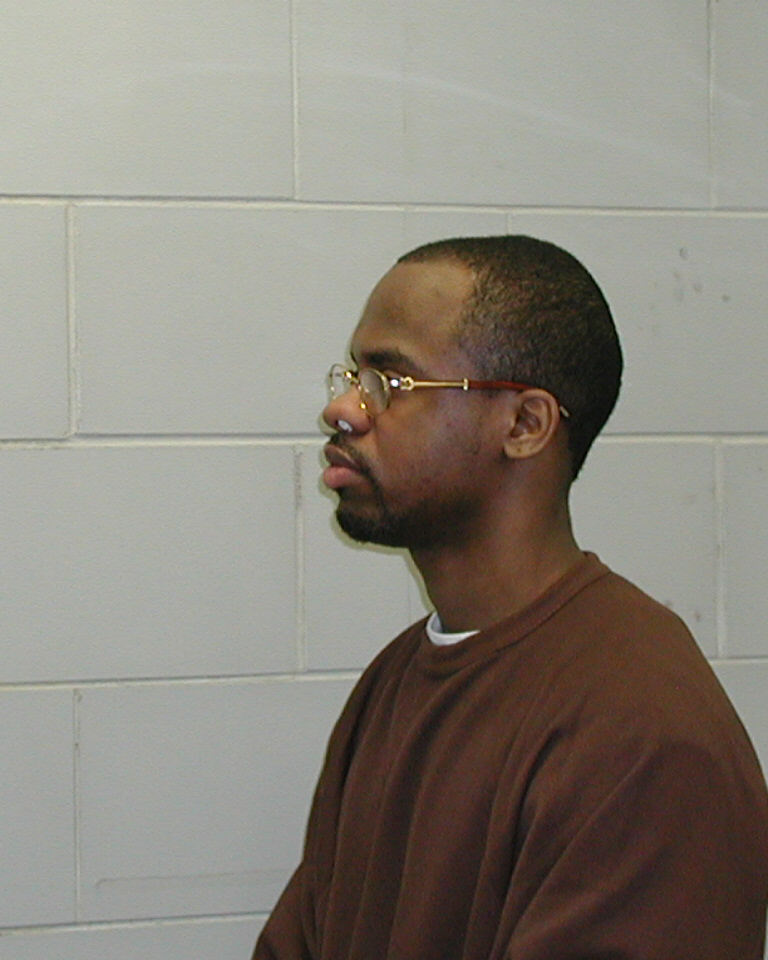face: (322, 239, 627, 537)
